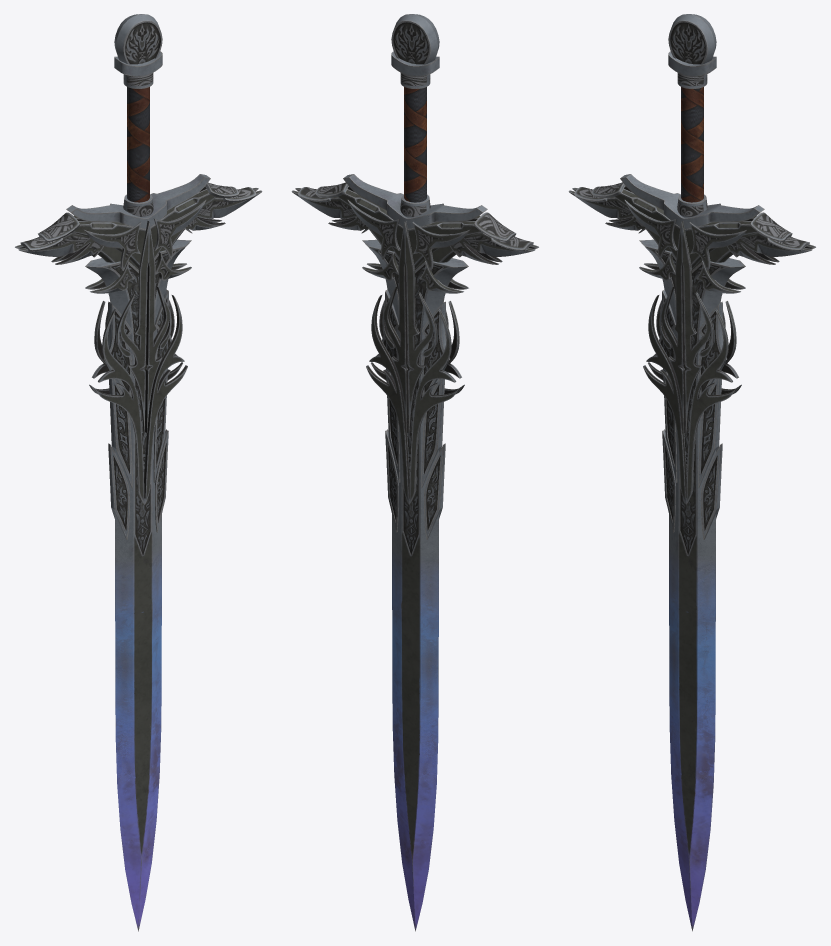
Rendered from about.glb.
The picture shows the model from 3 angles, left to right: view 1: azimuth 30°, elevation 25°; view 2: azimuth 150°, elevation 25°; view 3: azimuth 330°, elevation 25°; orthographic projection.
Parts seen in each view (by area): view 1: Sword_Sword_0; view 2: Sword_Sword_0; view 3: Sword_Sword_0.
Boxes of the visible parts, x1,y1,x2,y2 form: Sword_Sword_0: [15, 14, 262, 931]; Sword_Sword_0: [291, 14, 538, 931]; Sword_Sword_0: [568, 14, 815, 931].
Size of the model in its own units: 1.53 by 5.53 by 0.2392.
1 material, 1 textured.
